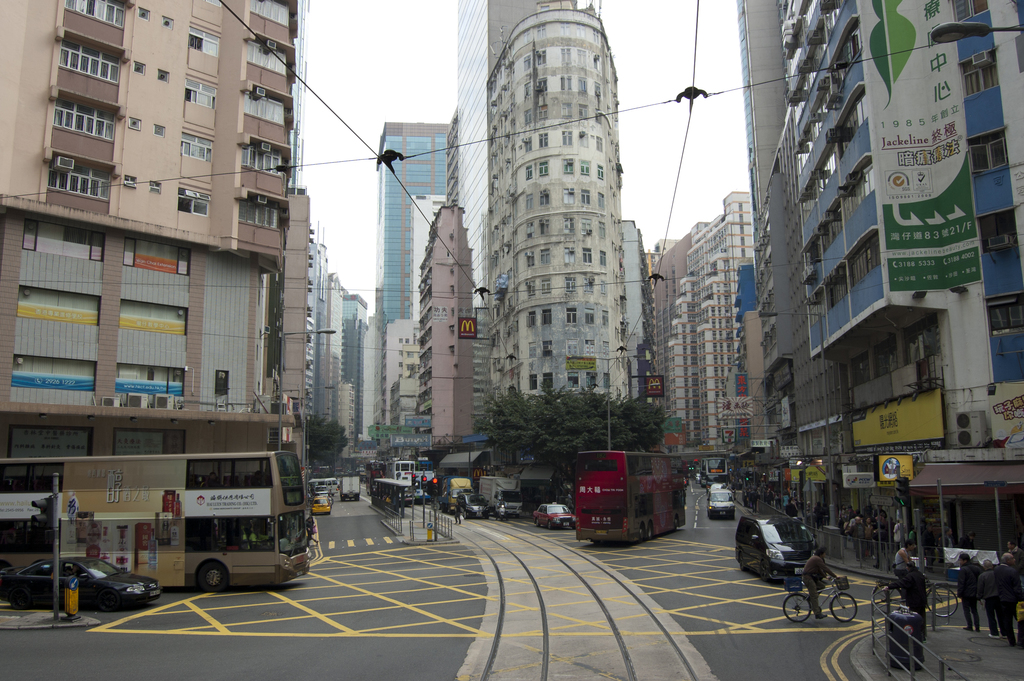Bus: (0, 450, 309, 595), (577, 450, 692, 547), (697, 461, 725, 490)
